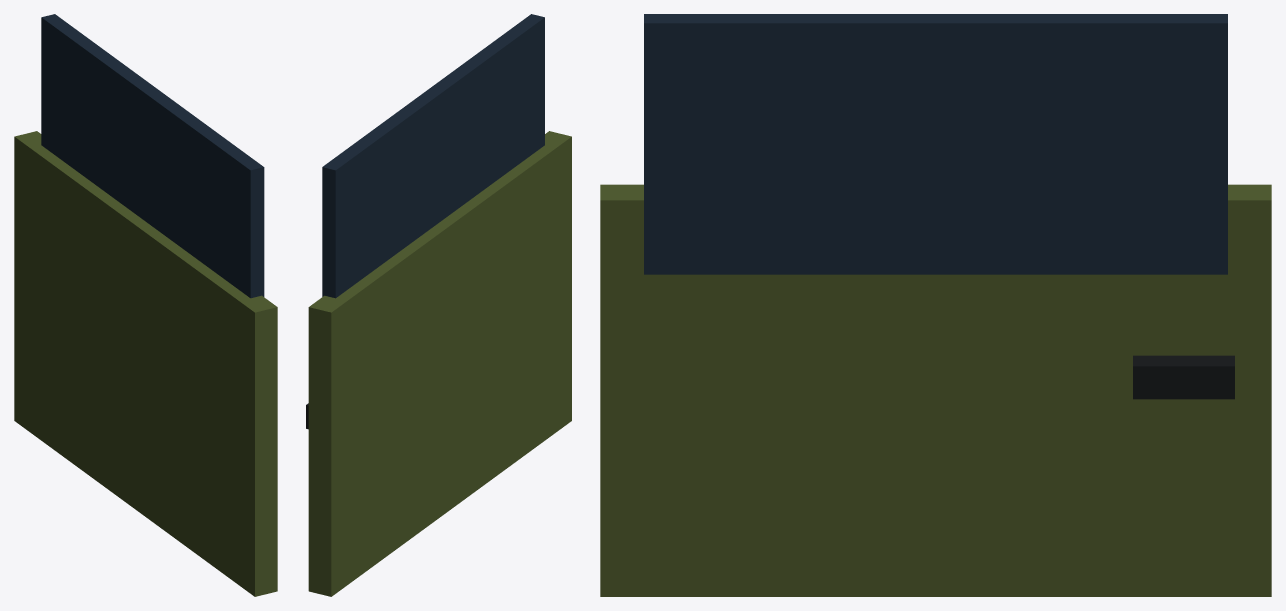
The model's file is car_door.glb.
The picture shows the model from 3 angles, left to right: view 1: azimuth 30°, elevation 25°; view 2: azimuth 150°, elevation 25°; view 3: azimuth 270°, elevation 25°; orthographic projection. The views are drawn at different scales.
Visible parts, largest first — view 1: mesh; view 2: mesh; view 3: mesh.
Part boxes in pixels (bbox=[...]): mesh: bbox=[14, 14, 277, 596]; mesh: bbox=[306, 14, 571, 596]; mesh: bbox=[600, 14, 1271, 596].
Size of the model in its own units: 0.085 by 0.87 by 0.92.
